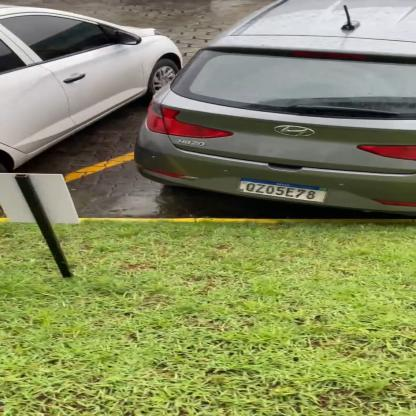Plate: (238, 176, 329, 206)
